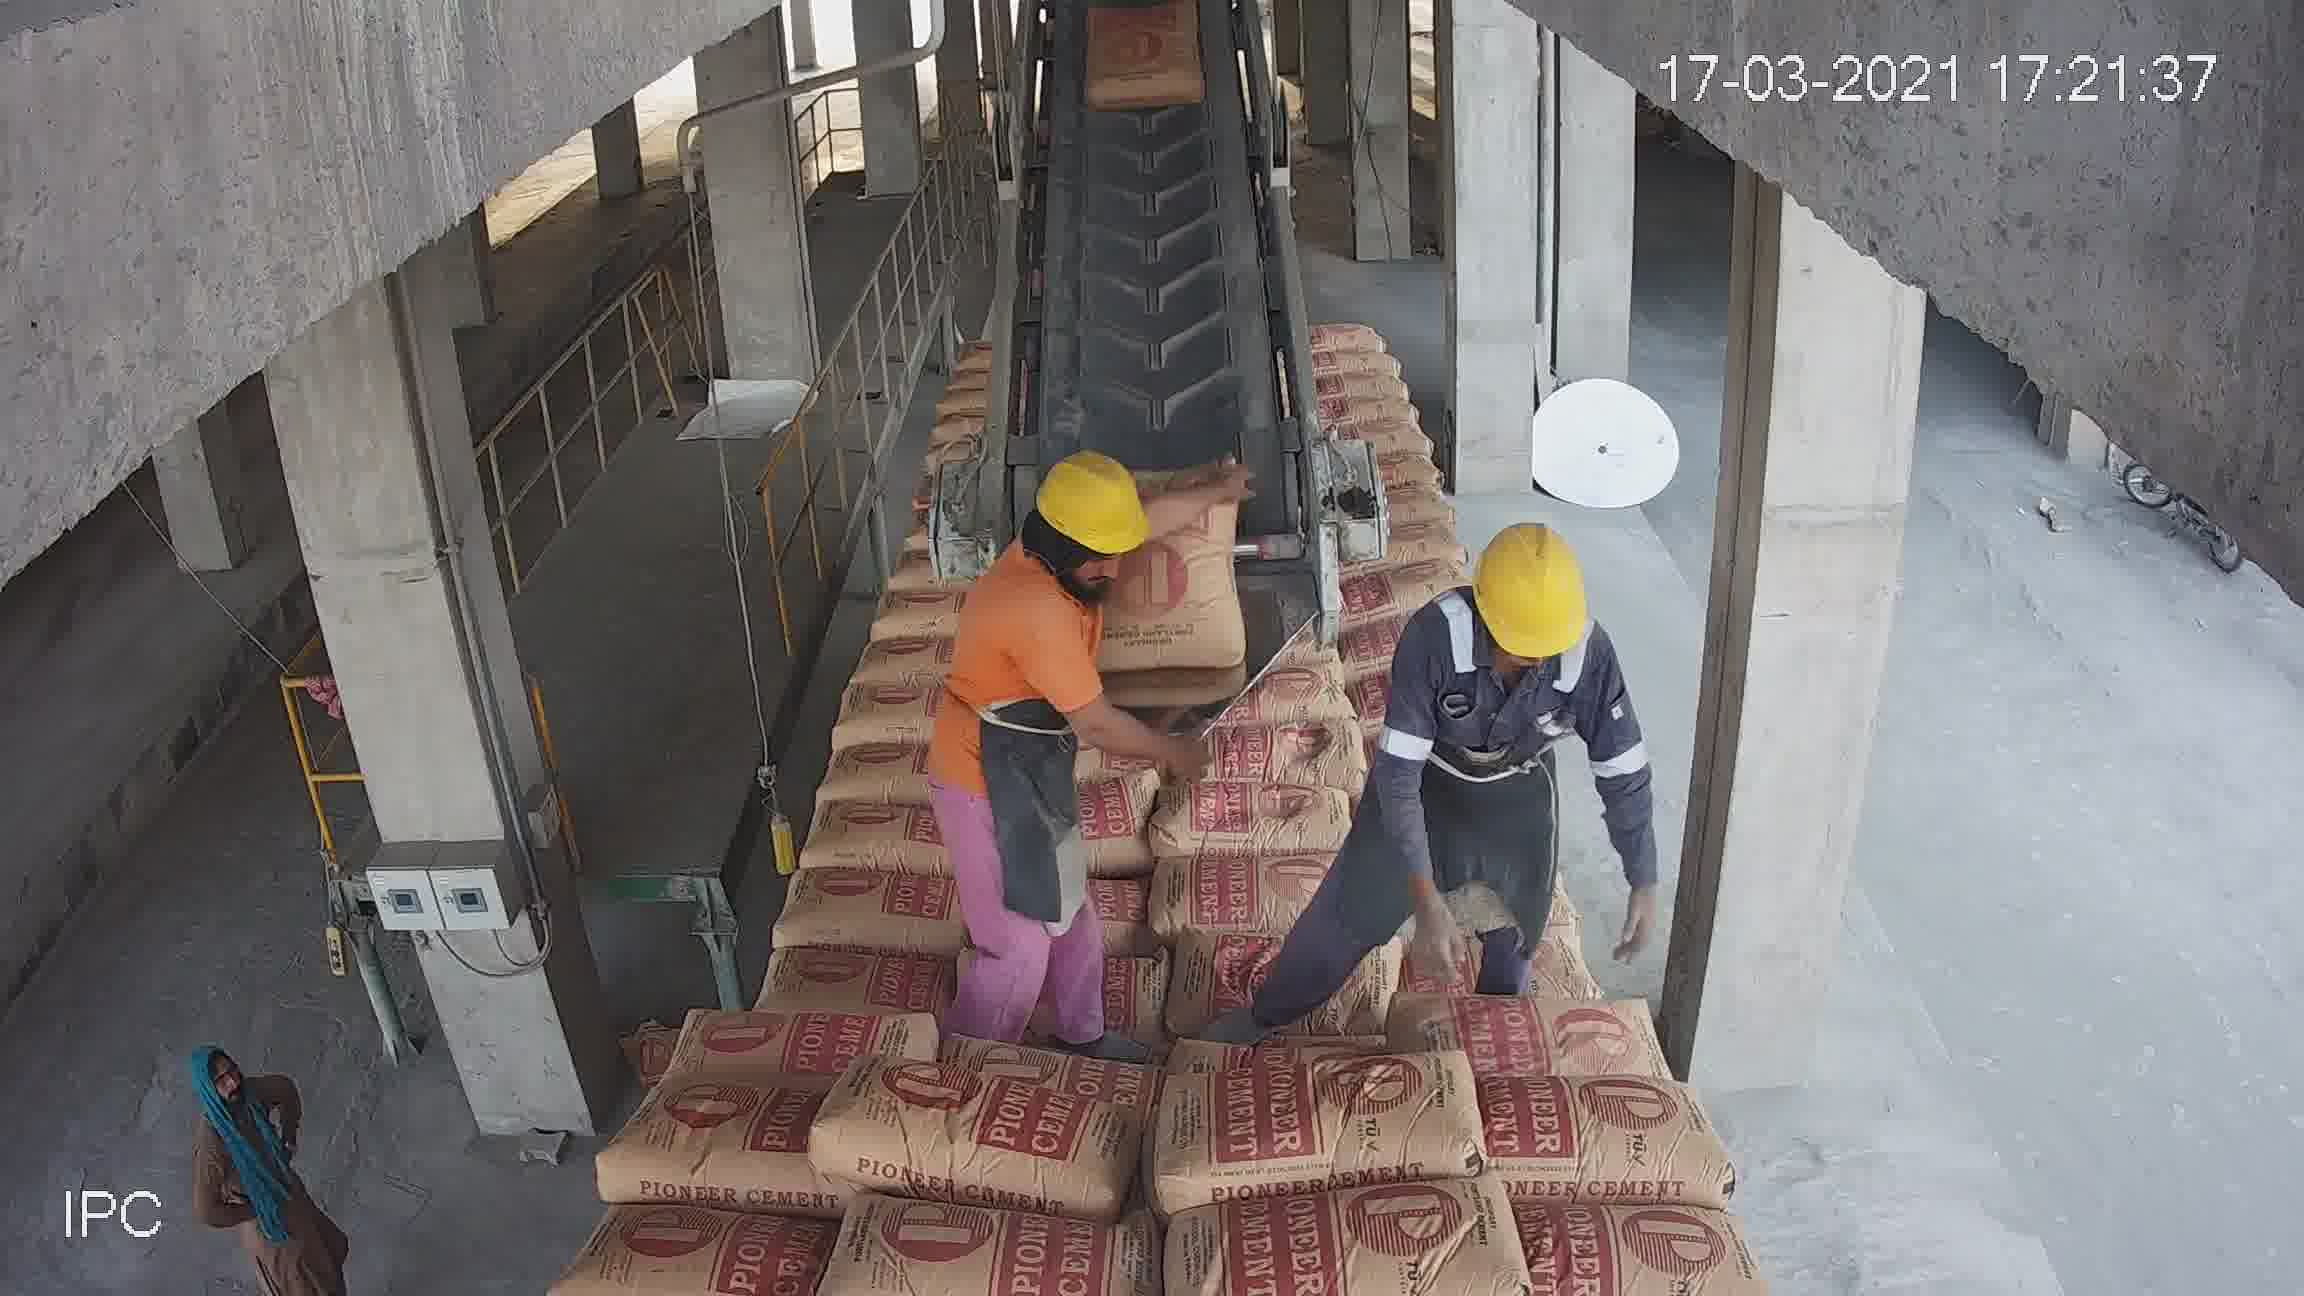bag_h: (1139, 1055, 1487, 1185), (790, 1074, 1154, 1196), (1166, 1177, 1529, 1296), (1131, 937, 1451, 1057), (1131, 817, 1415, 943), (1136, 704, 1396, 831), (812, 1198, 1149, 1294), (1492, 1070, 1730, 1206), (628, 956, 902, 1071), (892, 951, 1136, 1073), (1522, 1173, 1755, 1296), (584, 1065, 802, 1195), (1442, 954, 1681, 1071), (1412, 840, 1650, 954), (905, 832, 1146, 943), (557, 1209, 847, 1296), (1377, 761, 1608, 869), (885, 756, 1157, 832), (712, 774, 902, 880), (682, 862, 889, 954), (1016, 646, 1198, 748), (1014, 570, 1184, 638), (1378, 714, 1554, 777), (1381, 650, 1510, 734), (981, 617, 1176, 669), (1374, 600, 1492, 668), (1033, 536, 1177, 582)
belt: (1029, 25, 1302, 517)
